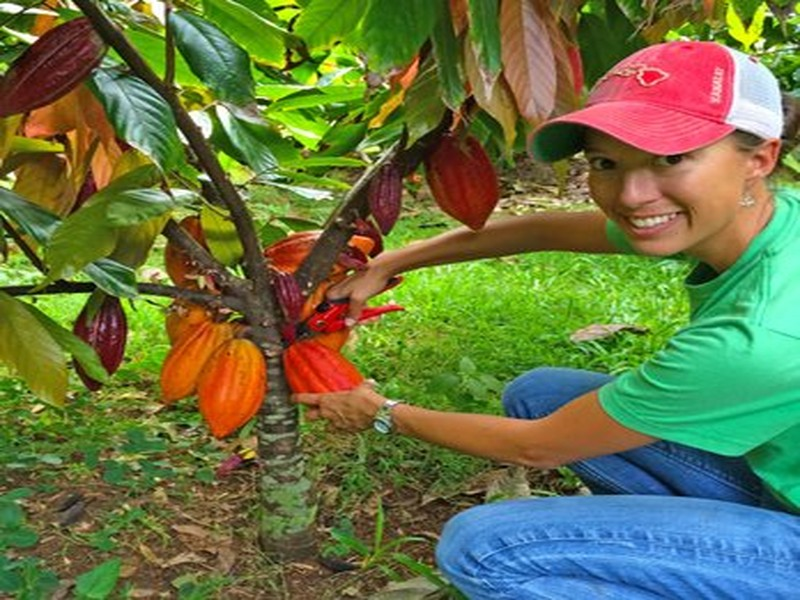Cacaopod: (421, 131, 497, 229)
